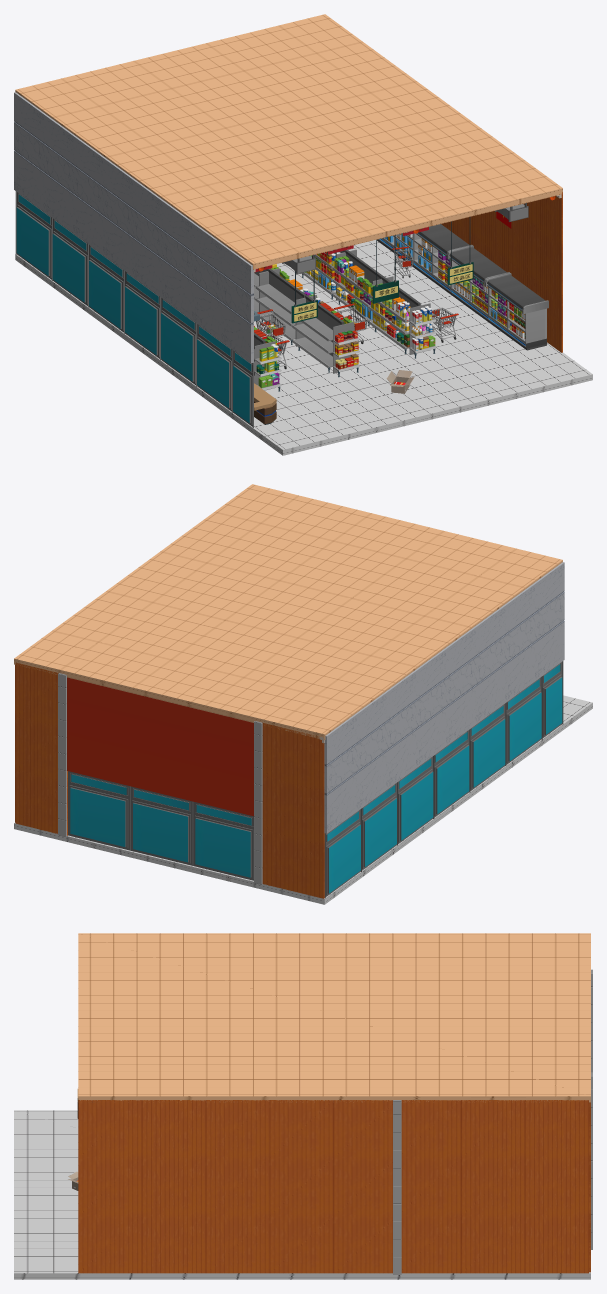
Rendered from supermarket.fbx.
3 renders of one model, top to bottom at view 1: azimuth 30°, elevation 25°; view 2: azimuth 150°, elevation 25°; view 3: azimuth 270°, elevation 25°, orthographic. The views are drawn at different scales.
Parts seen in each view (by area): view 1: supermarket; view 2: supermarket; view 3: supermarket.
Part boxes in pixels (<box>): supermarket: <box>14,14,592,455</box>; supermarket: <box>14,484,592,904</box>; supermarket: <box>14,933,592,1279</box>.
Size of the model in its own units: 24.49 by 12.66 by 36.24.
